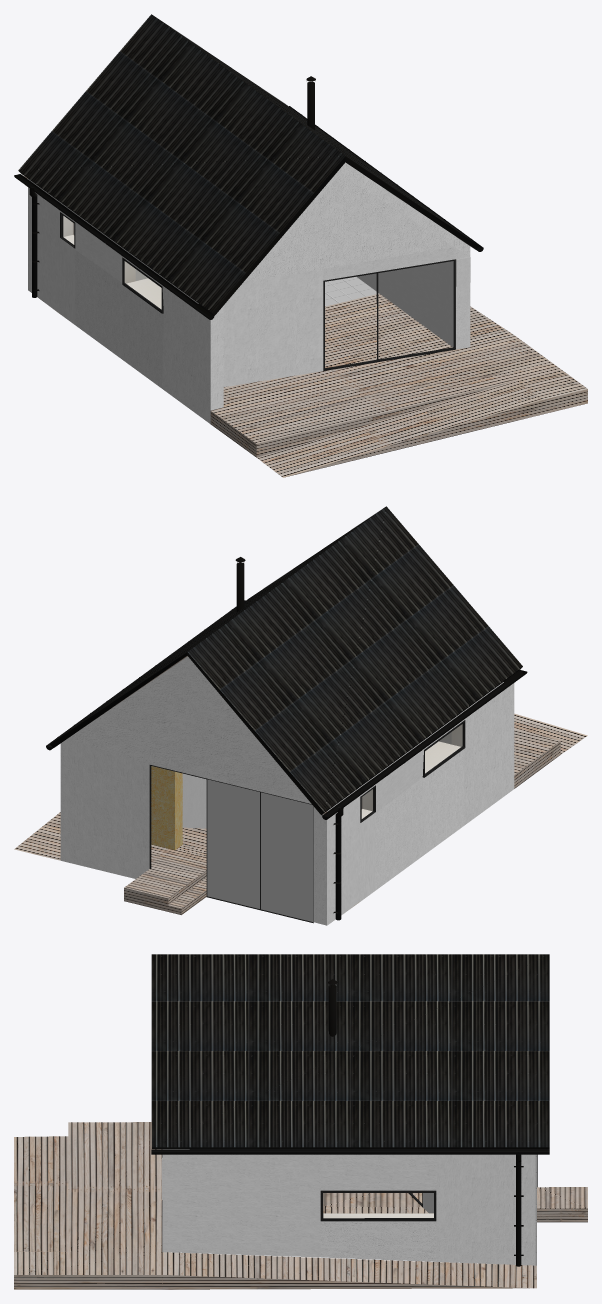
The model's file is mesh_house_01.fbx.
The picture shows the model from 3 angles, top to bottom: view 1: azimuth 30°, elevation 25°; view 2: azimuth 150°, elevation 25°; view 3: azimuth 270°, elevation 25°; orthographic projection. The views are drawn at different scales.
Visible parts, largest first — view 1: dach, mesh_houseWalls_01, mesh_WoodHouseElements_01, rynna lewa pozioma, mesh_bedroomFurniture_01, rynna z lewej pionowa; view 2: dach, mesh_houseWalls_01, mesh_houseWalls_02, mesh_WoodHouseElements_01, rynna lewa pozioma, mesh_bedroomFurniture_01, rynna z lewej pionowa; view 3: dach, mesh_WoodHouseElements_01, mesh_houseWalls_01, rynna prawa pozioma, rynna prawa pionowa, mesh_bedroomFurniture_01, komin.
Boxes of the visible parts, x1,y1,x2,y2 form: dach: (18,14,479,316); mesh_houseWalls_01: (22,162,470,423); mesh_WoodHouseElements_01: (60,212,587,477); rynna lewa pozioma: (14,174,214,319); mesh_bedroomFurniture_01: (63,216,161,309); rynna z lewej pionowa: (29,188,39,297); dach: (50,506,522,815); mesh_houseWalls_01: (60,656,514,925); mesh_houseWalls_02: (207,779,313,921); mesh_WoodHouseElements_01: (14,713,587,923); rynna lewa pozioma: (322,670,527,819); mesh_bedroomFurniture_01: (361,724,462,818); rynna z lewej pionowa: (333,807,343,920); dach: (151,954,549,1148); mesh_WoodHouseElements_01: (14,1122,587,1289); mesh_houseWalls_01: (161,1149,536,1265); rynna prawa pozioma: (151,1149,549,1155); rynna prawa pionowa: (514,1155,523,1266); mesh_bedroomFurniture_01: (323,1213,433,1218); komin: (328,979,337,1036).
Size of the model in its own units: 26850 by 19930 by 41523.
